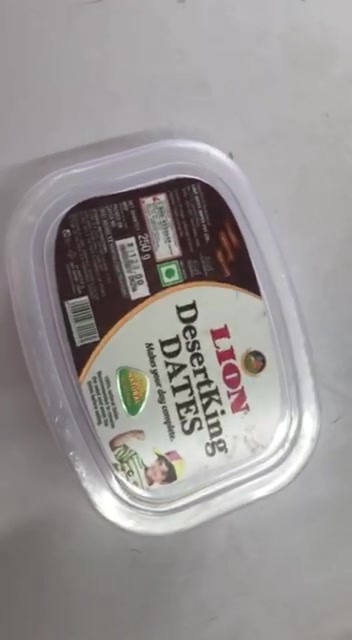Lion dates: (10, 142, 321, 535)
